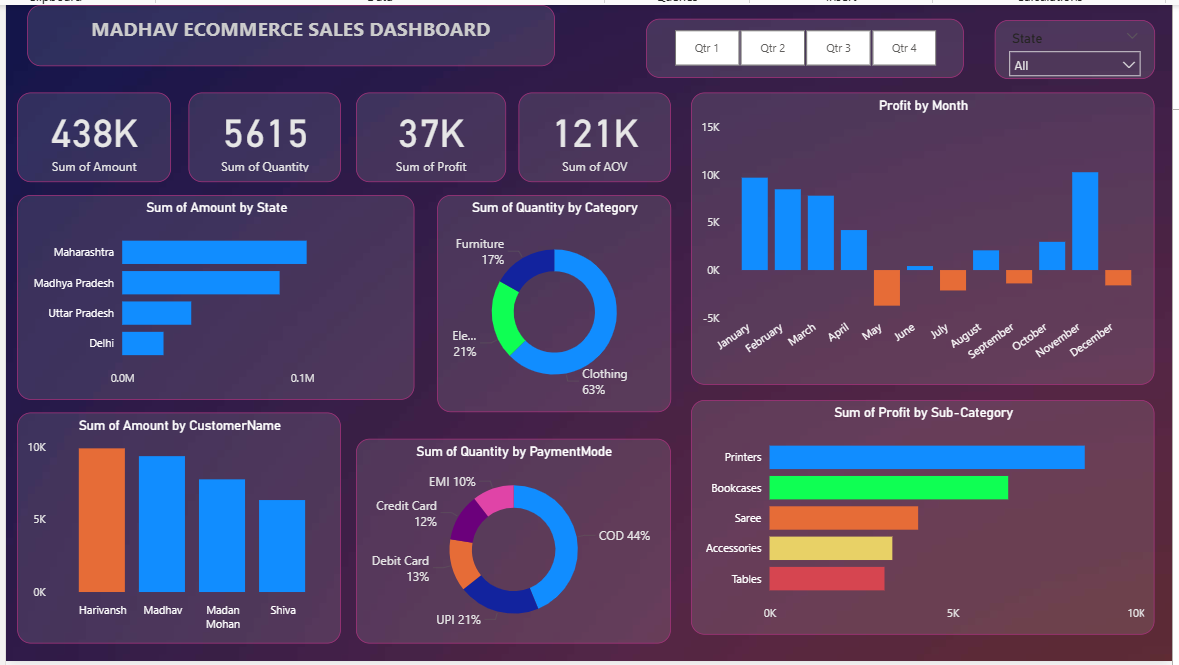

What the dashboard file says about the page in this screenshot:
{"tool":"powerbi","page":{"name":"Page 1","canvas":[1280,720],"ordinal":0},"visuals":[{"type":"textbox","box":[23.3,0,579.1,67.2],"z":0},{"type":"columnChart","title":"Profit by Month","fields":{"Y":["Sum(Details.Profit)"],"Category":["Orders.Order Date.Variation.Date Hierarchy.Month"]},"box":[752,96.1,509.1,321.1],"z":1000},{"type":"barChart","fields":{"Category":["Details.Sub-Category"],"Y":["Sum(Details.Profit)"]},"box":[752,433.6,509.1,258],"z":2000},{"type":"donutChart","fields":{"Category":["Details.Category"],"Y":["Sum(Details.Quantity)"]},"box":[473.4,208.6,256.6,238.8],"z":3000},{"type":"donutChart","fields":{"Y":["Sum(Details.Quantity)"],"Category":["Details.PaymentMode"]},"box":[384.2,476.2,345.8,225],"z":4000},{"type":"card","fields":{"Values":["Sum(Details.Amount)"]},"box":[12.3,96.1,168.8,98.8],"z":5000},{"type":"card","fields":{"Values":["Sum(Details.Quantity)"]},"box":[200.3,96.1,167.4,98.8],"z":6000},{"type":"card","fields":{"Values":["Sum(Details.Profit)"]},"box":[384.2,96.1,164.7,98.8],"z":7000},{"type":"card","fields":{"Values":["Sum(Details.AOV)"]},"box":[562.6,96.1,167.4,98.8],"z":8000},{"type":"barChart","fields":{"Category":["Orders.State"],"Y":["Sum(Details.Amount)"]},"box":[12.3,208.6,436.4,225],"z":9000},{"type":"columnChart","fields":{"Category":["Orders.CustomerName"],"Y":["Sum(Details.Amount)"]},"box":[12.3,447.3,355.4,253.9],"z":10000},{"type":"slicer","fields":{"Values":["Orders.Order Date.Variation.Date Hierarchy.Quarter"]},"box":[702.6,15.1,348.5,64.5],"z":11000},{"type":"slicer","fields":{"Values":["Orders.State"]},"box":[1085.4,16.5,175.6,64.5],"z":11001}]}

Visuals, with their boxes in screenshot pixels (x1, y1, x2, y2), scaled from the page's 1280x720 canvas onto the 1179x665 screenshot:
textbox: 21,0,555,62
"Profit by Month" columnChart: 693,89,1162,385
barChart - Details.Sub-Category x Sum(Details.Profit): 693,400,1162,639
donutChart - Details.Category x Sum(Details.Quantity): 436,193,672,413
donutChart - Sum(Details.Quantity) x Details.PaymentMode: 354,440,672,648
card - Sum(Details.Amount): 11,89,167,180
card - Sum(Details.Quantity): 184,89,339,180
card - Sum(Details.Profit): 354,89,506,180
card - Sum(Details.AOV): 518,89,672,180
barChart - Orders.State x Sum(Details.Amount): 11,193,413,400
columnChart - Orders.CustomerName x Sum(Details.Amount): 11,413,339,648
slicer - Orders.Order Date.Variation.Date Hierarchy.Quarter: 647,14,968,74
slicer - Orders.State: 1000,15,1161,75
